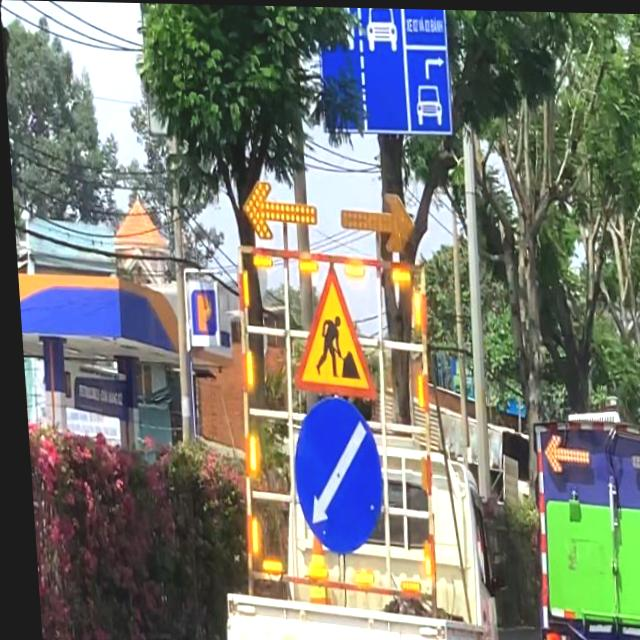Vong chuong ngai vat sang trai: (284, 394, 381, 555)
